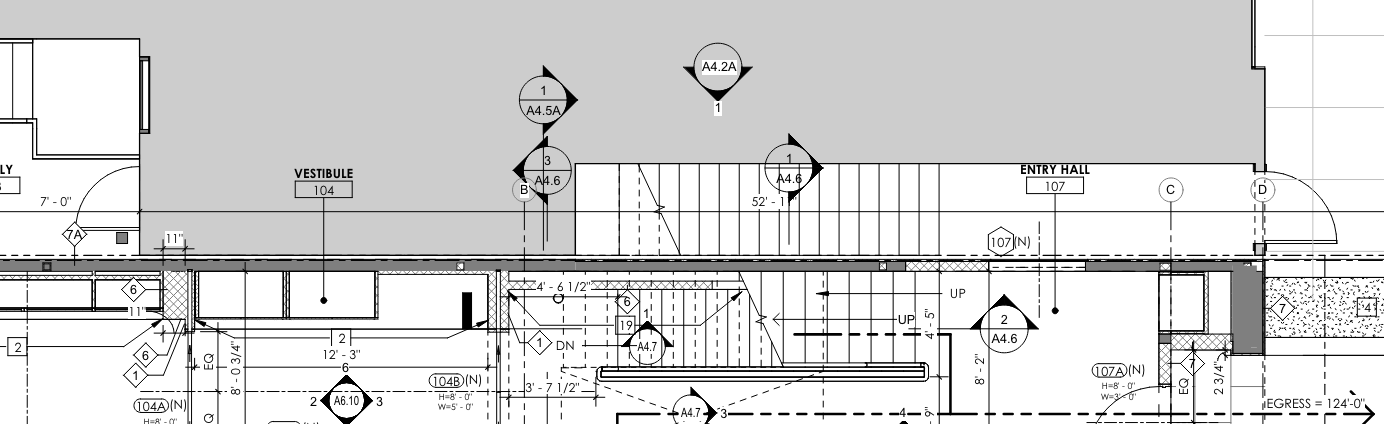door: (1253, 164, 1347, 250), (62, 157, 150, 231)
